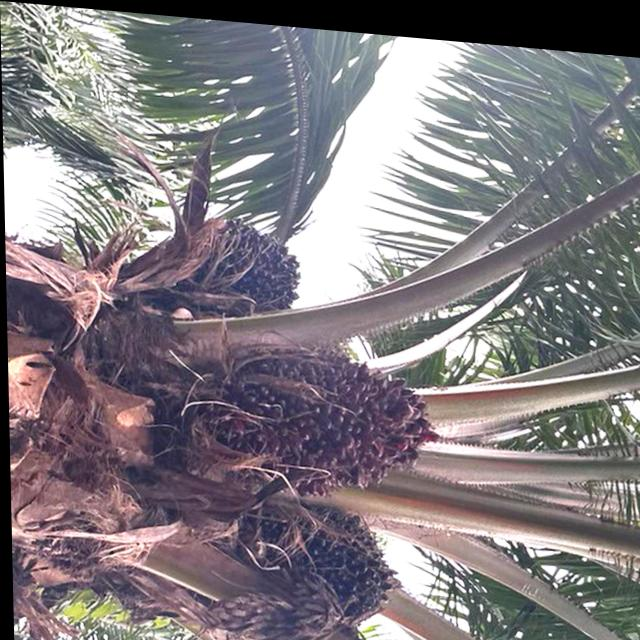ripe: (197, 323, 454, 501)
